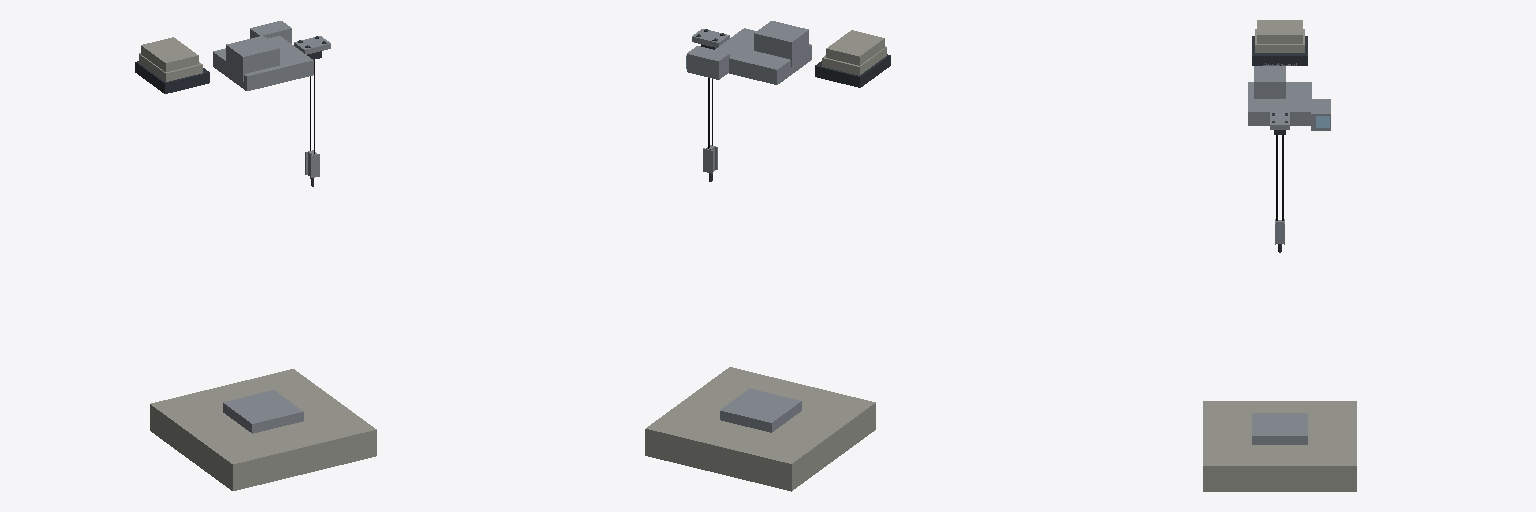
The robot description file, URDF, robot "tower_crane":
<robot name="tower_crane">
  <material name="concrete">
    <color rgba="0.64 0.64 0.61 1" />
    </material>
  <material name="safety_yellow">
    <color rgba="0.9 0.74 0.16 1" />
    </material>
  <material name="painted_steel">
    <color rgba="0.57 0.59 0.62 1" />
    </material>
  <material name="dark_steel">
    <color rgba="0.25 0.27 0.3 1" />
    </material>
  <material name="rope_black">
    <color rgba="0.12 0.12 0.13 1" />
    </material>
  <material name="cab_glass">
    <color rgba="0.62 0.77 0.85 0.42" />
    </material>
  <link name="base">
    <inertial>
      <origin xyz="0 0 3.46" rpy="0 0 0" />
      <mass value="6800" />
      <inertia ixx="31578.3" ixy="0" ixz="0" iyy="31578.3" iyz="0" izz="8885.33" />
      </inertial>
    <visual>
      <origin xyz="0 0 0.25" rpy="0 0 0" />
      <geometry>
        <box size="2.8 2.8 0.5" />
        </geometry>
      <material name="concrete">
        <color rgba="0.64 0.64 0.61 1" />
        </material>
      </visual>
    <visual>
      <origin xyz="0 0 0.59" rpy="0 0 0" />
      <geometry>
        <box size="1 1 0.18" />
        </geometry>
      <material name="painted_steel">
        <color rgba="0.57 0.59 0.62 1" />
        </material>
      </visual>
    <visual>
      <origin xyz="0 0 0.68" rpy="0 0 0" />
      <geometry>
        <mesh filename="assets/meshes/tower_mast.obj" />
        </geometry>
      <material name="safety_yellow">
        <color rgba="0.9 0.74 0.16 1" />
        </material>
      </visual>
    <visual>
      <origin xyz="0 0 6.89" rpy="0 0 0" />
      <geometry>
        <box size="0.88 0.88 0.06" />
        </geometry>
      <material name="painted_steel">
        <color rgba="0.57 0.59 0.62 1" />
        </material>
      </visual>
    </link>
  <link name="upperworks">
    <inertial>
      <origin xyz="1.88 0 0.68" rpy="0 0 0" />
      <mass value="1680" />
      <inertia ixx="890.75" ixy="0" ixz="0" iyy="10061.1" iyz="0" izz="9887.15" />
      </inertial>
    <visual>
      <geometry>
        <mesh filename="assets/meshes/slew_ring.obj" />
        </geometry>
      <material name="dark_steel">
        <color rgba="0.25 0.27 0.3 1" />
        </material>
      </visual>
    <visual>
      <geometry>
        <cylinder radius="0.18" length="0.14" />
        </geometry>
      <material name="painted_steel">
        <color rgba="0.57 0.59 0.62 1" />
        </material>
      </visual>
    <visual>
      <origin xyz="0 0 0.18" rpy="0 0 0" />
      <geometry>
        <box size="1.3 1.15 0.28" />
        </geometry>
      <material name="painted_steel">
        <color rgba="0.57 0.59 0.62 1" />
        </material>
      </visual>
    <visual>
      <origin xyz="-0.3 -0.18 0.41" rpy="0 0 0" />
      <geometry>
        <box size="0.72 0.58 0.46" />
        </geometry>
      <material name="painted_steel">
        <color rgba="0.57 0.59 0.62 1" />
        </material>
      </visual>
    <visual>
      <origin xyz="0.58 0.74 0.23" rpy="0 0 0" />
      <geometry>
        <box size="0.62 0.36 0.34" />
        </geometry>
      <material name="painted_steel">
        <color rgba="0.57 0.59 0.62 1" />
        </material>
      </visual>
    <visual>
      <origin xyz="0.7 0.78 0.24" rpy="0 0 0" />
      <geometry>
        <box size="0.4 0.26 0.24" />
        </geometry>
      <material name="cab_glass">
        <color rgba="0.62 0.77 0.85 0.42" />
        </material>
      </visual>
    <visual>
      <geometry>
        <mesh filename="assets/meshes/jib_truss.obj" />
        </geometry>
      <material name="safety_yellow">
        <color rgba="0.9 0.74 0.16 1" />
        </material>
      </visual>
    <visual>
      <geometry>
        <mesh filename="assets/meshes/counter_jib_truss.obj" />
        </geometry>
      <material name="safety_yellow">
        <color rgba="0.9 0.74 0.16 1" />
        </material>
      </visual>
    <visual>
      <geometry>
        <mesh filename="assets/meshes/tower_head_and_stays.obj" />
        </geometry>
      <material name="safety_yellow">
        <color rgba="0.9 0.74 0.16 1" />
        </material>
      </visual>
    </link>
  <link name="counterweight">
    <inertial>
      <origin xyz="-0.24 0 0.28" rpy="0 0 0" />
      <mass value="1850" />
      <inertia ixx="202.513" ixy="0" ixz="0" iyy="167.733" iyz="0" izz="273.553" />
      </inertial>
    <visual>
      <origin xyz="0.1 0 0.05" rpy="0 0 0" />
      <geometry>
        <box size="0.2 0.62 0.1" />
        </geometry>
      <material name="painted_steel">
        <color rgba="0.57 0.59 0.62 1" />
        </material>
      </visual>
    <visual>
      <origin xyz="-0.24 0 0.1" rpy="0 0 0" />
      <geometry>
        <box size="0.88 1 0.2" />
        </geometry>
      <material name="dark_steel">
        <color rgba="0.25 0.27 0.3 1" />
        </material>
      </visual>
    <visual>
      <origin xyz="-0.28 0 0.27" rpy="0 0 0" />
      <geometry>
        <box size="0.72 0.92 0.18" />
        </geometry>
      <material name="concrete">
        <color rgba="0.64 0.64 0.61 1" />
        </material>
      </visual>
    <visual>
      <origin xyz="-0.3 0 0.44" rpy="0 0 0" />
      <geometry>
        <box size="0.64 0.84 0.18" />
        </geometry>
      <material name="concrete">
        <color rgba="0.64 0.64 0.61 1" />
        </material>
      </visual>
    </link>
  <link name="trolley">
    <inertial>
      <origin xyz="0 0 -0.12" rpy="0 0 0" />
      <mass value="260" />
      <inertia ixx="5.31267" ixy="0" ixz="0" iyy="8.36333" iyz="0" izz="8.66667" />
      </inertial>
    <visual>
      <origin xyz="0 0 -0.03" rpy="0 0 0" />
      <geometry>
        <box size="0.52 0.36 0.1" />
        </geometry>
      <material name="painted_steel">
        <color rgba="0.57 0.59 0.62 1" />
        </material>
      </visual>
    <visual>
      <origin xyz="0 0 -0.15" rpy="0 0 0" />
      <geometry>
        <box size="0.24 0.2 0.2" />
        </geometry>
      <material name="dark_steel">
        <color rgba="0.25 0.27 0.3 1" />
        </material>
      </visual>
    <visual>
      <origin xyz="0 0 -0.16" rpy="0 0 0" />
      <geometry>
        <box size="0.12 0.12 0.2" />
        </geometry>
      <material name="painted_steel">
        <color rgba="0.57 0.59 0.62 1" />
        </material>
      </visual>
    <visual>
      <origin xyz="-0.16 -0.12 0" rpy="1.5708 0 0" />
      <geometry>
        <cylinder radius="0.045" length="0.06" />
        </geometry>
      <material name="dark_steel">
        <color rgba="0.25 0.27 0.3 1" />
        </material>
      </visual>
    <visual>
      <origin xyz="-0.16 0.12 0" rpy="1.5708 0 0" />
      <geometry>
        <cylinder radius="0.045" length="0.06" />
        </geometry>
      <material name="dark_steel">
        <color rgba="0.25 0.27 0.3 1" />
        </material>
      </visual>
    <visual>
      <origin xyz="0.16 -0.12 0" rpy="1.5708 0 0" />
      <geometry>
        <cylinder radius="0.045" length="0.06" />
        </geometry>
      <material name="dark_steel">
        <color rgba="0.25 0.27 0.3 1" />
        </material>
      </visual>
    <visual>
      <origin xyz="0.16 0.12 0" rpy="1.5708 0 0" />
      <geometry>
        <cylinder radius="0.045" length="0.06" />
        </geometry>
      <material name="dark_steel">
        <color rgba="0.25 0.27 0.3 1" />
        </material>
      </visual>
    </link>
  <link name="hook_block">
    <inertial>
      <origin xyz="0 0 -1.4" rpy="0 0 0" />
      <mass value="180" />
      <inertia ixx="118.2" ixy="0" ixz="0" iyy="118.776" iyz="0" izz="1.776" />
      </inertial>
    <visual>
      <origin xyz="0 0 -0.04" rpy="0 0 0" />
      <geometry>
        <box size="0.18 0.18 0.08" />
        </geometry>
      <material name="painted_steel">
        <color rgba="0.57 0.59 0.62 1" />
        </material>
      </visual>
    <visual>
      <origin xyz="0 -0.055 -0.94" rpy="0 0 0" />
      <geometry>
        <cylinder radius="0.01" length="1.88" />
        </geometry>
      <material name="rope_black">
        <color rgba="0.12 0.12 0.13 1" />
        </material>
      </visual>
    <visual>
      <origin xyz="0 0.055 -0.94" rpy="0 0 0" />
      <geometry>
        <cylinder radius="0.01" length="1.88" />
        </geometry>
      <material name="rope_black">
        <color rgba="0.12 0.12 0.13 1" />
        </material>
      </visual>
    <visual>
      <origin xyz="0 0 -2.08" rpy="0 0 0" />
      <geometry>
        <box size="0.1 0.14 0.44" />
        </geometry>
      <material name="painted_steel">
        <color rgba="0.57 0.59 0.62 1" />
        </material>
      </visual>
    <visual>
      <origin xyz="0 -0.08 -2.08" rpy="0 0 0" />
      <geometry>
        <box size="0.18 0.02 0.42" />
        </geometry>
      <material name="painted_steel">
        <color rgba="0.57 0.59 0.62 1" />
        </material>
      </visual>
    <visual>
      <origin xyz="0 0.08 -2.08" rpy="0 0 0" />
      <geometry>
        <box size="0.18 0.02 0.42" />
        </geometry>
      <material name="painted_steel">
        <color rgba="0.57 0.59 0.62 1" />
        </material>
      </visual>
    <visual>
      <origin xyz="0 0 -2.39" rpy="0 0 0" />
      <geometry>
        <cylinder radius="0.032" length="0.18" />
        </geometry>
      <material name="dark_steel">
        <color rgba="0.25 0.27 0.3 1" />
        </material>
      </visual>
    <visual>
      <geometry>
        <mesh filename="assets/meshes/hook_curve.obj" />
        </geometry>
      <material name="dark_steel">
        <color rgba="0.25 0.27 0.3 1" />
        </material>
      </visual>
    </link>
  <joint name="slew_rotation" type="continuous">
    <origin xyz="0 0 6.89" rpy="0 0 0" />
    <parent link="base" />
    <child link="upperworks" />
    <axis xyz="0 0 1" />
    <limit effort="35000" velocity="0.45" />
    </joint>
  <joint name="jib_trolley" type="prismatic">
    <origin xyz="0.96 0 0.32" rpy="0 0 0" />
    <parent link="upperworks" />
    <child link="trolley" />
    <axis xyz="1 0 0" />
    <limit effort="12000" velocity="0.9" lower="0" upper="3.96" />
    </joint>
  <joint name="upperworks_to_counterweight" type="fixed">
    <origin xyz="-1.52 0 0.32" rpy="0 0 0" />
    <parent link="upperworks" />
    <child link="counterweight" />
    </joint>
  <joint name="trolley_to_hook" type="fixed">
    <origin xyz="0 0 -0.16" rpy="0 0 0" />
    <parent link="trolley" />
    <child link="hook_block" />
    </joint>
  </robot>

--- Facts derived from the render (not from the file) ---
3 views of the same robot in one strip: view 1: azimuth 30°, elevation 25°; view 2: azimuth 150°, elevation 25°; view 3: azimuth 270°, elevation 25° (orthographic).
Model tower_crane with 5 links and 4 joints (1 continuous, 1 prismatic, 2 fixed), rooted at base, posed every joint at zero.
Visible links, largest first — view 1: base, upperworks, counterweight, hook_block, trolley; view 2: base, upperworks, counterweight, hook_block; view 3: base, upperworks, counterweight, hook_block.
Boxes of the visible links, box(x1,y1,x2,y2) form: base: box(150, 369, 376, 490); upperworks: box(213, 21, 313, 90); counterweight: box(135, 37, 209, 93); hook_block: box(305, 60, 319, 186); trolley: box(294, 36, 330, 59); base: box(645, 367, 875, 491); upperworks: box(686, 21, 811, 84); counterweight: box(815, 30, 890, 87); hook_block: box(703, 78, 717, 181); base: box(1203, 401, 1356, 491); upperworks: box(1248, 66, 1330, 130); counterweight: box(1252, 20, 1307, 65); hook_block: box(1275, 135, 1284, 252).
Bounding box of the posed robot: 3.6 × 2.8 × 7.74 m (x, y, z).
Meshes: 6 distinct files referenced, 0 mesh visuals loaded (none loaded); not drawn: 6 (reference not matched to a file when rendering).
